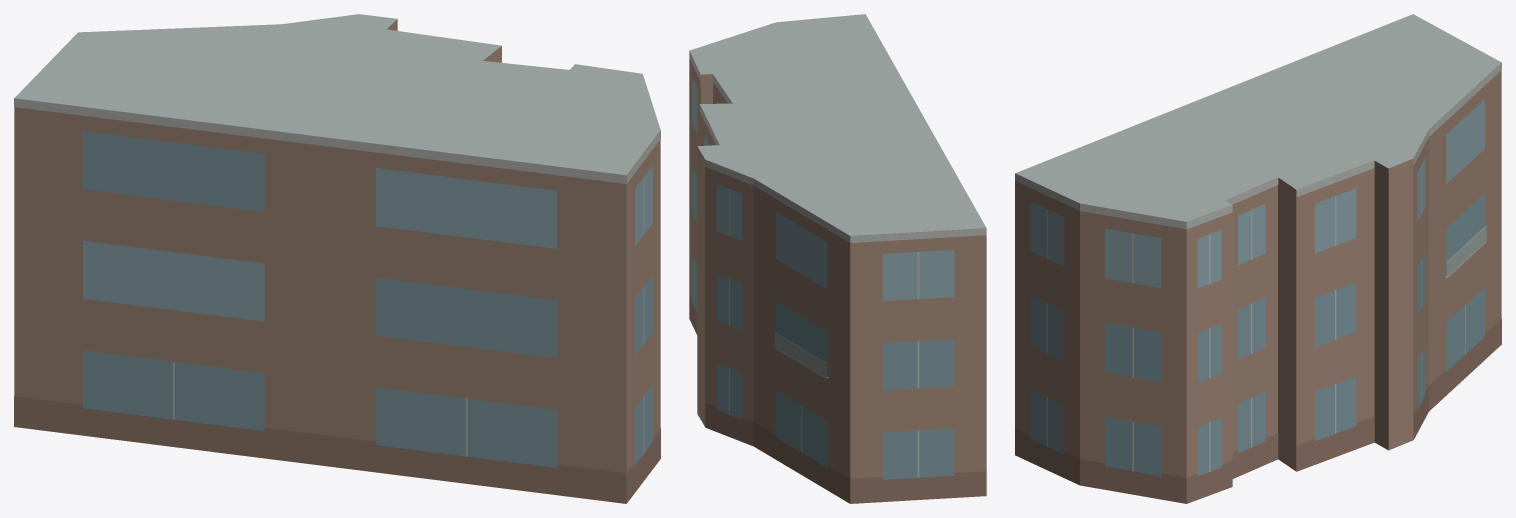
File: survey-upis-32517484.glb
3 renders of one model, left to right at view 1: azimuth 30°, elevation 25°; view 2: azimuth 150°, elevation 25°; view 3: azimuth 270°, elevation 25°, orthographic. The views are drawn at different scales.
Parts seen in each view (by area): view 1: survey-upis-32517484.tmp; view 2: survey-upis-32517484.tmp; view 3: survey-upis-32517484.tmp.
Boxes of the visible parts, x1=… form: survey-upis-32517484.tmp: x1=14, y1=14, x2=660, y2=503; survey-upis-32517484.tmp: x1=689, y1=14, x2=986, y2=503; survey-upis-32517484.tmp: x1=1015, y1=14, x2=1501, y2=503.
Size of the model in its own units: 14.48 by 9.15 by 14.32.
